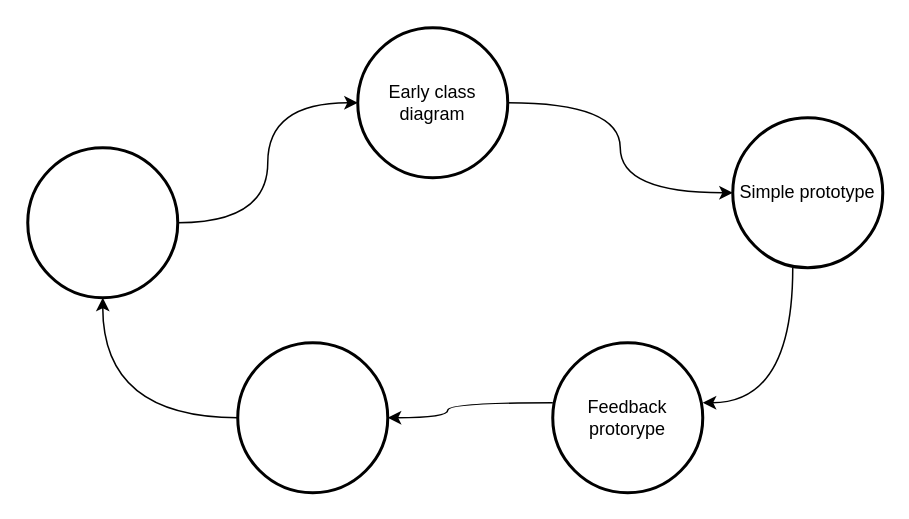
This 909x519 diagram has some shape labels left out. Each missing label, with the centre of its shape:
Brainstorming: point 312,417
Draft domain model: point 102,222
